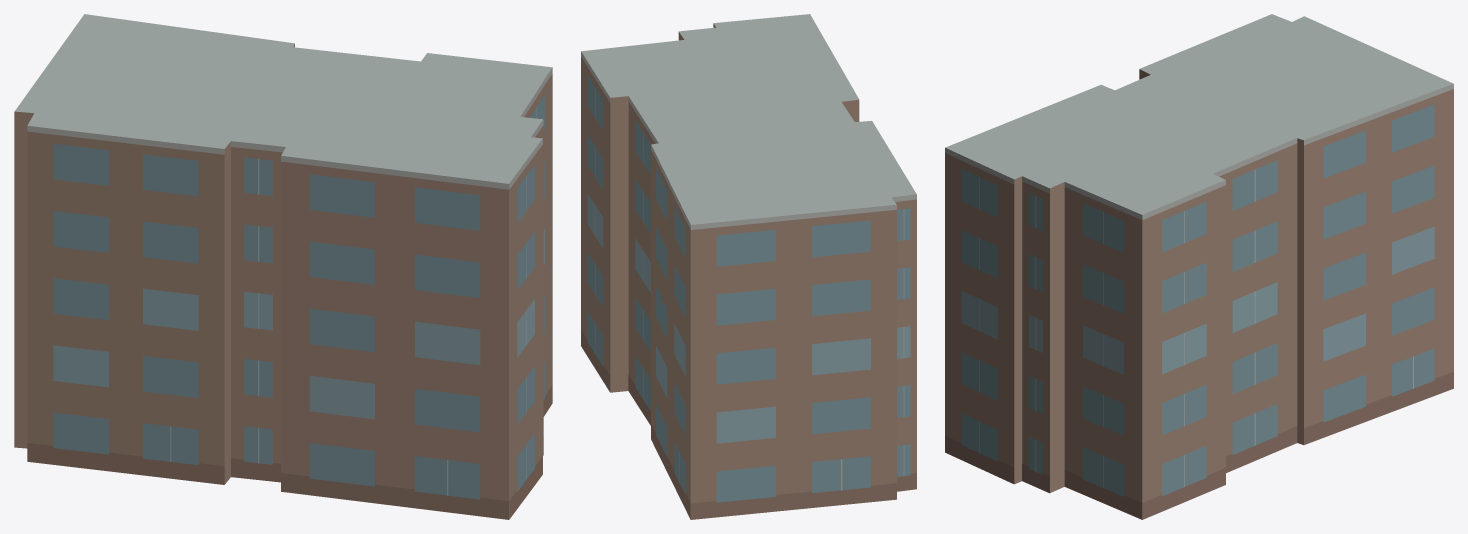
Rendered from survey-upis-32770362.glb.
3 renders of one model, left to right at view 1: azimuth 30°, elevation 25°; view 2: azimuth 150°, elevation 25°; view 3: azimuth 270°, elevation 25°, orthographic. The views are drawn at different scales.
Parts seen in each view (by area): view 1: survey-upis-32770362.tmp; view 2: survey-upis-32770362.tmp; view 3: survey-upis-32770362.tmp.
Part boxes in pixels (x1,y1,x2,y2): survey-upis-32770362.tmp: (14, 14, 552, 519); survey-upis-32770362.tmp: (581, 14, 916, 519); survey-upis-32770362.tmp: (945, 14, 1453, 519).
Bounding box in the file's own units: 20.08 × 14.2 × 21.48.
